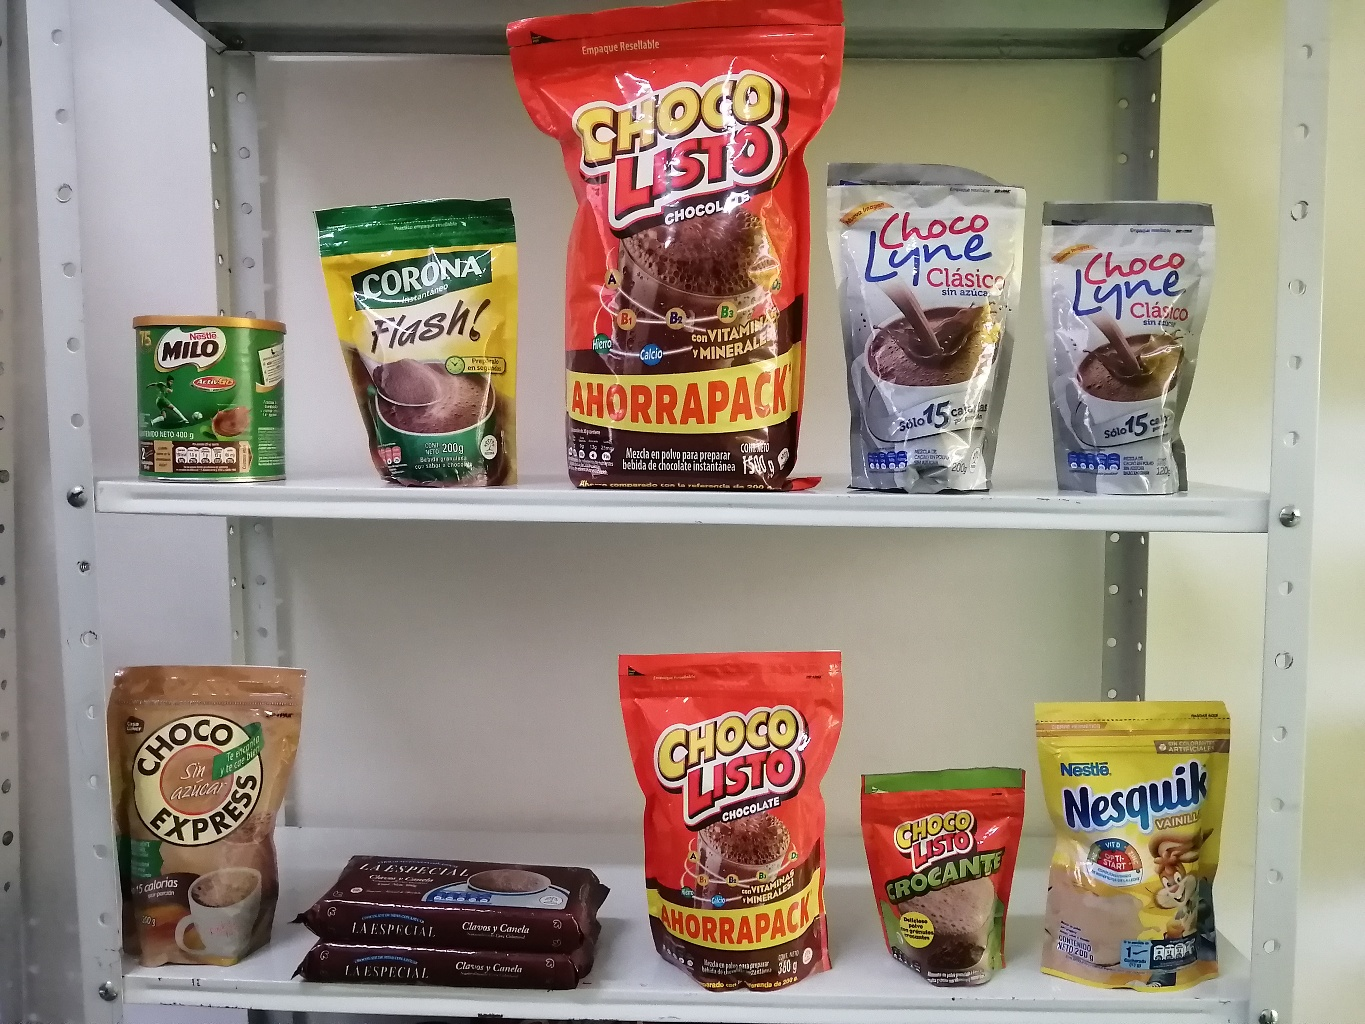COL0170102DYP10000: (862, 760, 1044, 989)
COL0170103DYP1,500: (516, 2, 829, 494)
COL0170103DYP36000: (612, 643, 856, 1000)
COL0170203LAT40000: (124, 298, 292, 487)
COL0170306DYP20000: (1022, 701, 1240, 996)
